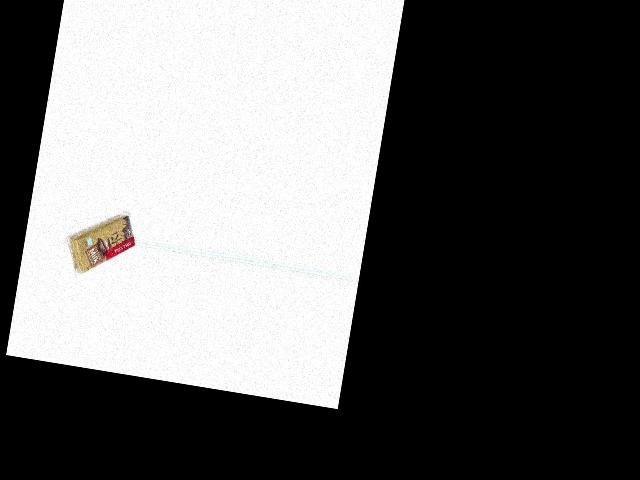chocolate: (61, 205, 138, 289)
